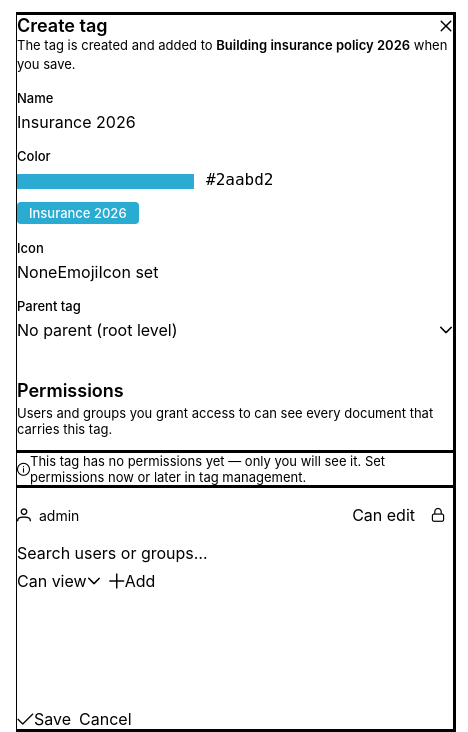
Test case: TagCreatePanel — a create the server refuses › shows the server's own reason in the panel and stays open
This screenshot has width=468, height=732.
What coordinates should you click on to do the following:
click the button "Save"
I would click on:
 (44, 719)
Its box is x1=17 y1=709 x2=71 y2=729.
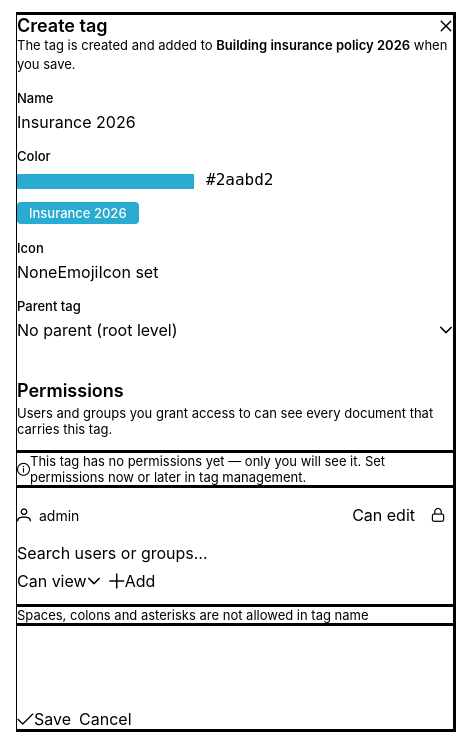
Expected: the message with class "tag-create-error" shows "asterisks are not allowed", x1=17 y1=607 x2=368 y2=623
